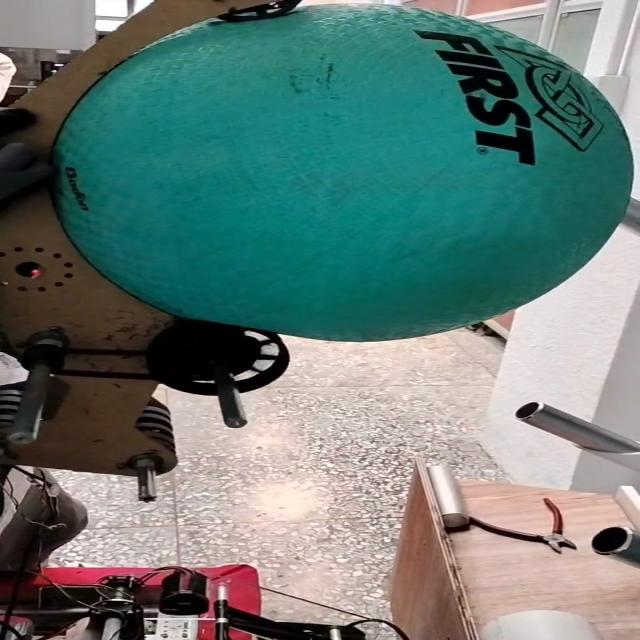ALGAE: (57, 3, 637, 340)
